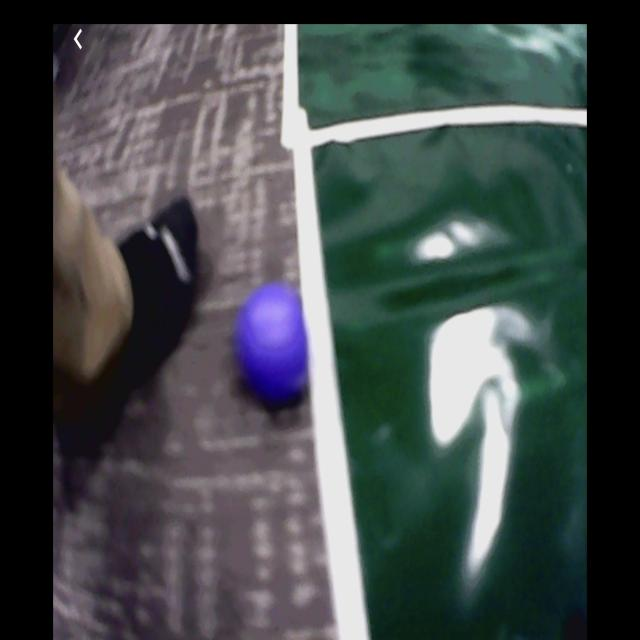ball: (239, 286, 307, 399)
